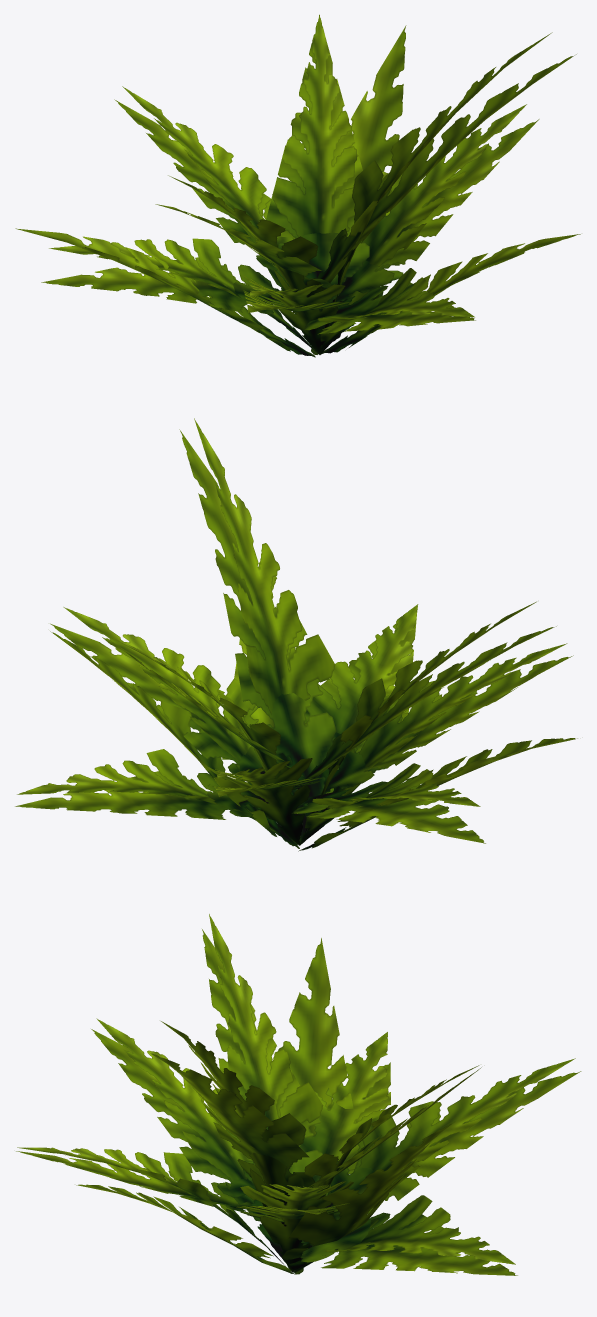
The model's file is plant0.obj.
3 views of the same model, one above another, from view 1: azimuth 30°, elevation 25°; view 2: azimuth 150°, elevation 25°; view 3: azimuth 270°, elevation 25° (orthographic). The views are drawn at different scales.
Visible parts, largest first — view 1: ColobotMesh_1.012_ColobotMesh_.012, ColobotMesh_1.006_ColobotMesh_.006, ColobotMesh_1.019_ColobotMesh_.019, ColobotMesh_1.001_ColobotMesh_.001, ColobotMesh_1.011_ColobotMesh_.011, ColobotMesh_1.013_ColobotMesh_.013, ColobotMesh_1.018_ColobotMesh_.018, ColobotMesh_1.014_ColobotMesh_.014, ColobotMesh_1.008_ColobotMesh_.008, ColobotMesh_1.003_ColobotMesh_.003, ColobotMesh_1.009_ColobotMesh_.009, ColobotMesh_1.016_ColobotMesh_.016 (+7 smaller); view 2: ColobotMesh_1.013_ColobotMesh_.013, ColobotMesh_1.019_ColobotMesh_.019, ColobotMesh_1.006_ColobotMesh_.006, ColobotMesh_1.005_ColobotMesh_.005, ColobotMesh_1.015_ColobotMesh_.015, ColobotMesh_1.002_ColobotMesh_.002, ColobotMesh_1.014_ColobotMesh_.014, ColobotMesh_1.020_ColobotMesh_.020, ColobotMesh_1.004_ColobotMesh_.004, ColobotMesh_1.001_ColobotMesh_.001, ColobotMesh_1.008_ColobotMesh_.008, ColobotMesh_1.011_ColobotMesh_.011 (+7 smaller); view 3: ColobotMesh_1.007_ColobotMesh_.007, ColobotMesh_1.009_ColobotMesh_.009, ColobotMesh_1.008_ColobotMesh_.008, ColobotMesh_1.002_ColobotMesh_.002, ColobotMesh_1.011_ColobotMesh_.011, ColobotMesh_1.019_ColobotMesh_.019, ColobotMesh_1.003_ColobotMesh_.003, ColobotMesh_1.015_ColobotMesh_.015, ColobotMesh_1.004_ColobotMesh_.004, ColobotMesh_1_ColobotMesh_, ColobotMesh_1.013_ColobotMesh_.013, ColobotMesh_1.020_ColobotMesh_.020 (+9 smaller).
Part boxes in pixels (bbox=[...]): ColobotMesh_1.012_ColobotMesh_.012: bbox=[272, 15, 357, 328]; ColobotMesh_1.006_ColobotMesh_.006: bbox=[323, 104, 526, 344]; ColobotMesh_1.019_ColobotMesh_.019: bbox=[293, 54, 576, 312]; ColobotMesh_1.001_ColobotMesh_.001: bbox=[331, 119, 539, 302]; ColobotMesh_1.011_ColobotMesh_.011: bbox=[280, 25, 406, 354]; ColobotMesh_1.013_ColobotMesh_.013: bbox=[325, 32, 552, 327]; ColobotMesh_1.018_ColobotMesh_.018: bbox=[266, 15, 369, 308]; ColobotMesh_1.014_ColobotMesh_.014: bbox=[41, 257, 284, 314]; ColobotMesh_1.008_ColobotMesh_.008: bbox=[122, 86, 295, 314]; ColobotMesh_1.003_ColobotMesh_.003: bbox=[49, 238, 317, 353]; ColobotMesh_1.009_ColobotMesh_.009: bbox=[15, 228, 315, 357]; ColobotMesh_1.016_ColobotMesh_.016: bbox=[304, 282, 475, 334]; ColobotMesh_1.013_ColobotMesh_.013: bbox=[194, 418, 335, 841]; ColobotMesh_1.019_ColobotMesh_.019: bbox=[179, 429, 336, 811]; ColobotMesh_1.006_ColobotMesh_.006: bbox=[63, 607, 268, 803]; ColobotMesh_1.005_ColobotMesh_.005: bbox=[300, 604, 418, 842]; ColobotMesh_1.015_ColobotMesh_.015: bbox=[15, 771, 268, 819]; ColobotMesh_1.002_ColobotMesh_.002: bbox=[307, 643, 567, 831]; ColobotMesh_1.014_ColobotMesh_.014: bbox=[292, 778, 485, 843]; ColobotMesh_1.020_ColobotMesh_.020: bbox=[319, 655, 573, 794]; ColobotMesh_1.004_ColobotMesh_.004: bbox=[17, 749, 297, 844]; ColobotMesh_1.001_ColobotMesh_.001: bbox=[50, 623, 297, 792]; ColobotMesh_1.008_ColobotMesh_.008: bbox=[207, 758, 312, 845]; ColobotMesh_1.011_ColobotMesh_.011: bbox=[50, 631, 299, 848]; ColobotMesh_1.007_ColobotMesh_.007: bbox=[209, 914, 323, 1164]; ColobotMesh_1.009_ColobotMesh_.009: bbox=[247, 938, 356, 1274]; ColobotMesh_1.008_ColobotMesh_.008: bbox=[293, 1058, 575, 1271]; ColobotMesh_1.002_ColobotMesh_.002: bbox=[96, 1018, 289, 1268]; ColobotMesh_1.011_ColobotMesh_.011: bbox=[282, 1122, 454, 1272]; ColobotMesh_1.019_ColobotMesh_.019: bbox=[150, 1053, 315, 1187]; ColobotMesh_1.003_ColobotMesh_.003: bbox=[299, 1032, 388, 1170]; ColobotMesh_1.015_ColobotMesh_.015: bbox=[300, 1212, 517, 1275]; ColobotMesh_1.004_ColobotMesh_.004: bbox=[296, 1195, 515, 1270]; ColobotMesh_1_ColobotMesh_: bbox=[317, 1071, 581, 1220]; ColobotMesh_1.013_ColobotMesh_.013: bbox=[161, 1021, 306, 1251]; ColobotMesh_1.020_ColobotMesh_.020: bbox=[91, 1029, 264, 1209].
Bounding box in the file's own units: 29.31 × 17.77 × 27.
